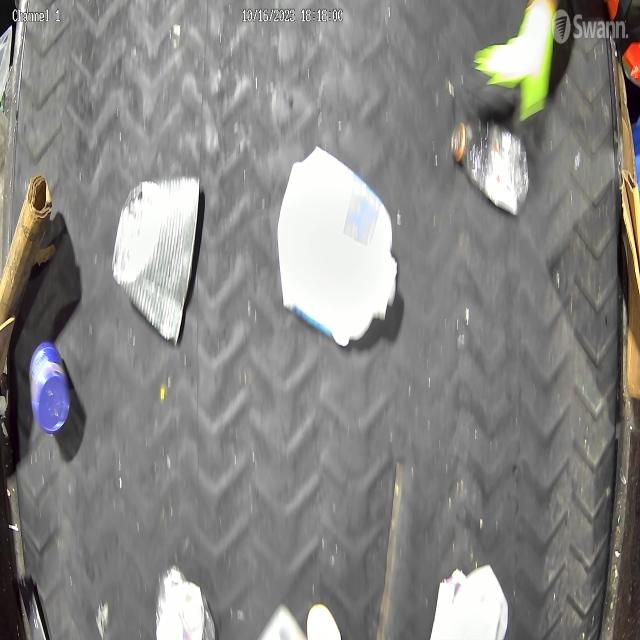can: (112, 173, 202, 347)
milk_jug: (276, 146, 400, 347)
plastic_bottle: (450, 121, 530, 217)
